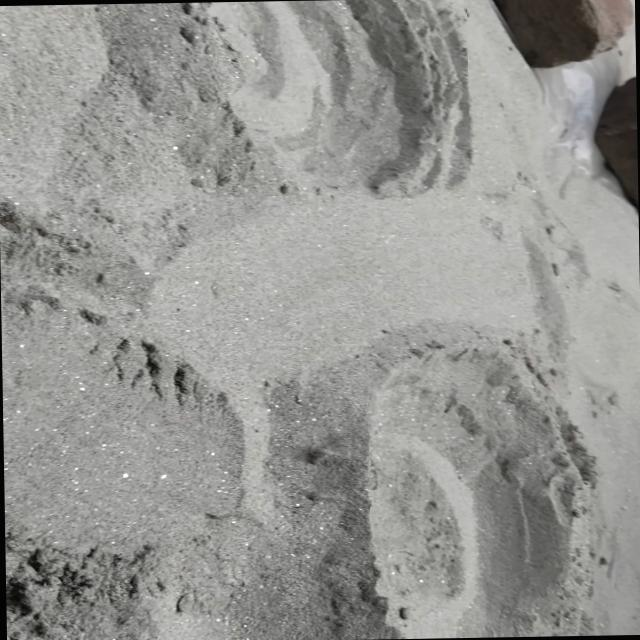C20: (367, 347, 590, 635), (215, 0, 468, 194)
